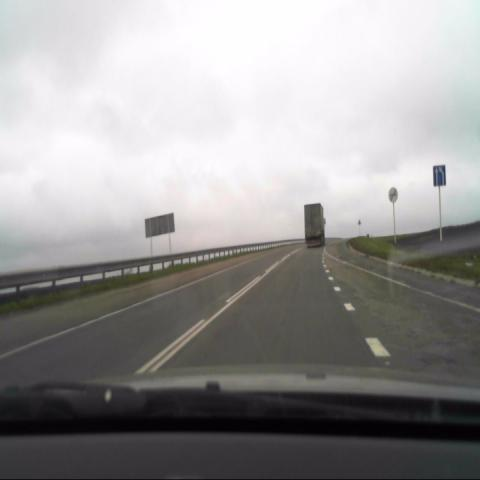3_21: (388, 186, 398, 204)
5_15_5: (433, 164, 446, 186)
